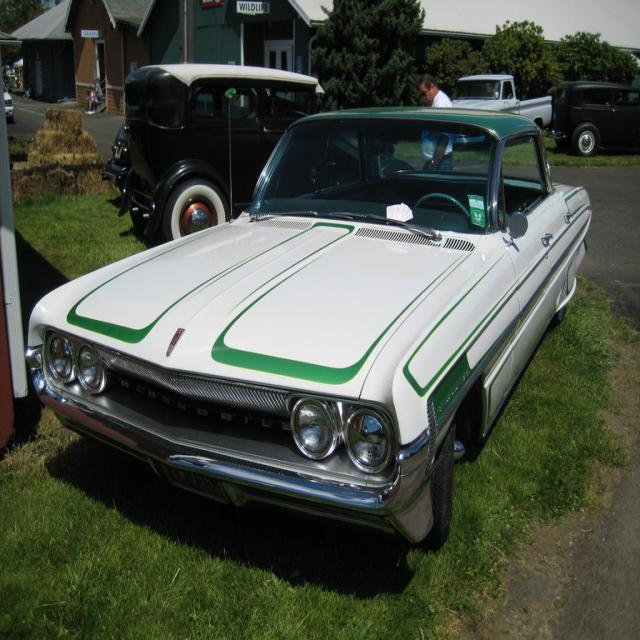car: (24, 102, 594, 578)
